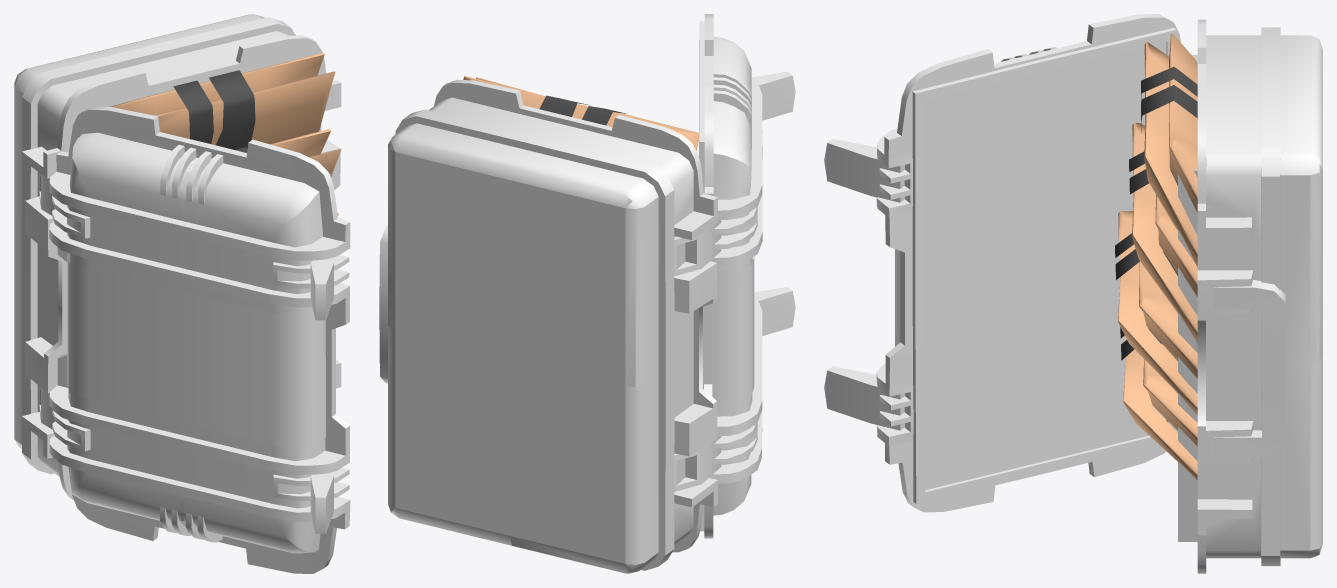
File: gen_equipment_armorpak_bag.glb
3 views of the same model, side by side, from view 1: azimuth 30°, elevation 25°; view 2: azimuth 150°, elevation 25°; view 3: azimuth 270°, elevation 25° (orthographic). The views are drawn at different scales.
Visible parts, largest first — view 1: g_flamingo, g_pak_04, g_pak_03; view 2: g_flamingo, g_pak_04; view 3: g_flamingo, g_pak_04, g_pak_02, g_pak_03, g_pak_01, dm_metal.
Boxes of the visible parts, x1,y1,x2,y2 form: g_flamingo: [14, 14, 350, 573]; g_pak_04: [109, 52, 335, 149]; g_pak_03: [235, 129, 341, 177]; g_flamingo: [379, 14, 795, 573]; g_pak_04: [463, 76, 699, 150]; g_flamingo: [824, 14, 1322, 573]; g_pak_04: [1141, 33, 1197, 266]; g_pak_02: [1115, 211, 1197, 415]; g_pak_03: [1129, 122, 1197, 342]; g_pak_01: [1120, 327, 1197, 480]; dm_metal: [1178, 55, 1197, 541].
Bounding box in the file's own units: 0.3762 × 0.4945 × 0.4972.
